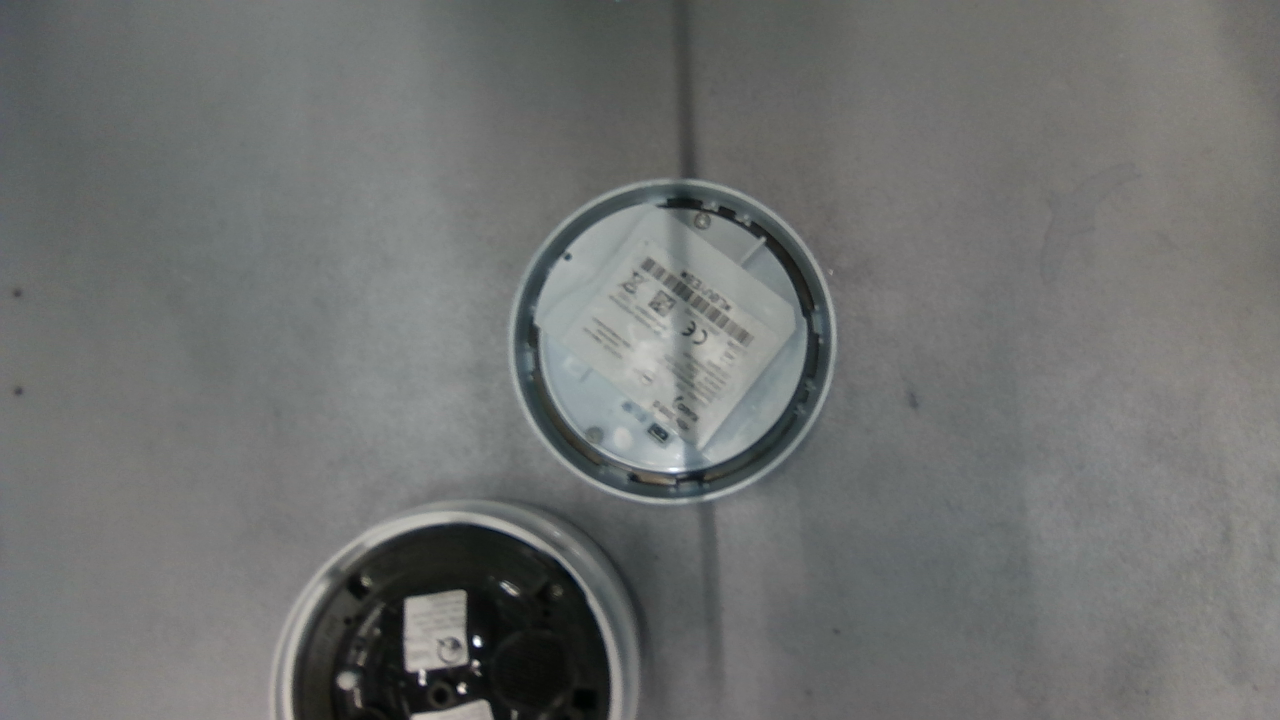HexScrew: (695, 214, 710, 235), (585, 429, 606, 444)
